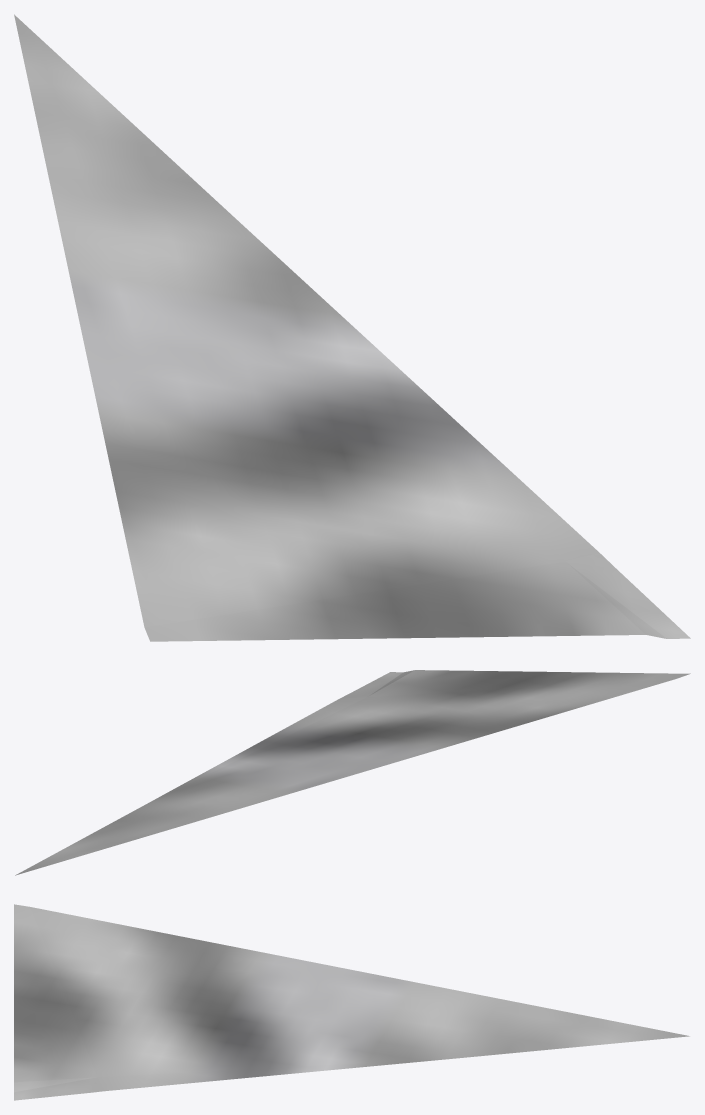
3 renders of one model, top to bottom at view 1: azimuth 30°, elevation 25°; view 2: azimuth 150°, elevation 25°; view 3: azimuth 270°, elevation 25°, orthographic. The views are drawn at different scales.
Size of the model in its own units: 0.0534 by 0.0121 by 0.1157.
1 material, 1 textured.
